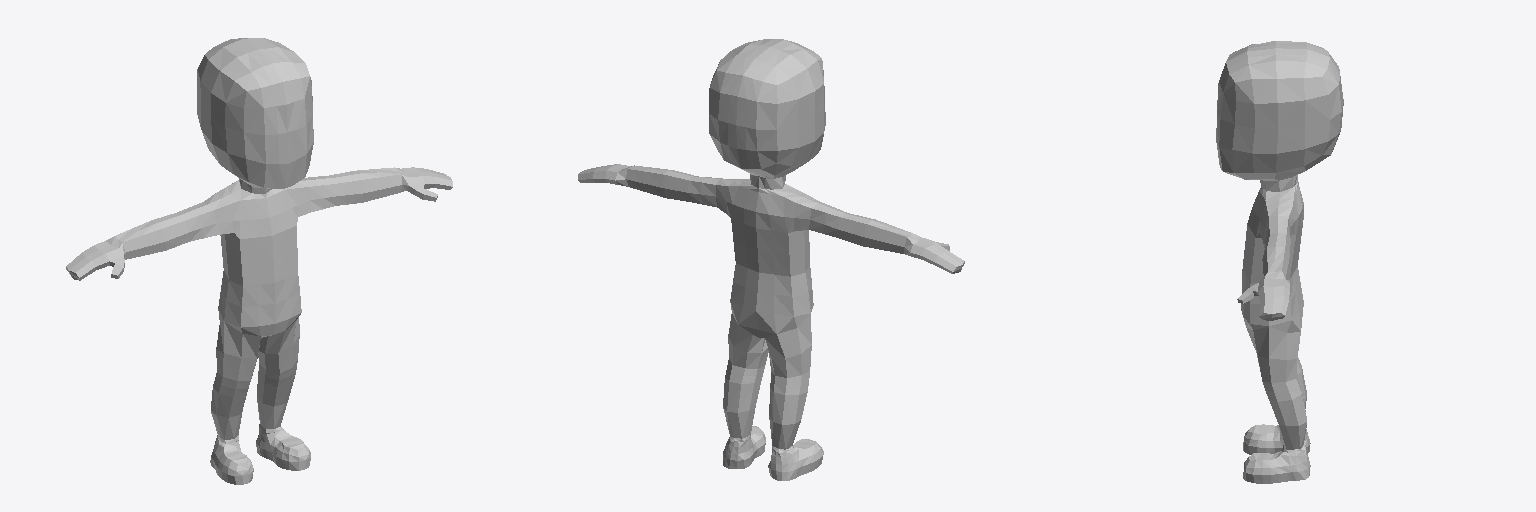
The model's file is character.obj.
The picture shows the model from 3 angles: view 1: azimuth 30°, elevation 25°; view 2: azimuth 150°, elevation 25°; view 3: azimuth 270°, elevation 25°; orthographic projection.
Visible parts, largest first — view 1: characterMedium; view 2: characterMedium; view 3: characterMedium.
Part boxes in pixels (bbox=[...]): characterMedium: bbox=[66, 38, 452, 484]; characterMedium: bbox=[578, 39, 964, 480]; characterMedium: bbox=[1216, 41, 1343, 483].
Bounding box in the file's own units: 3.62 × 3.76 × 1.05.